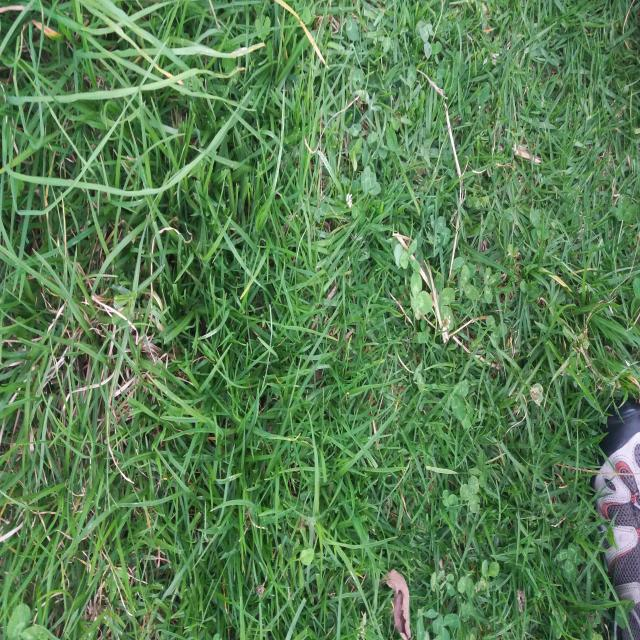Four Leaf Clover: (360, 166, 381, 199)
